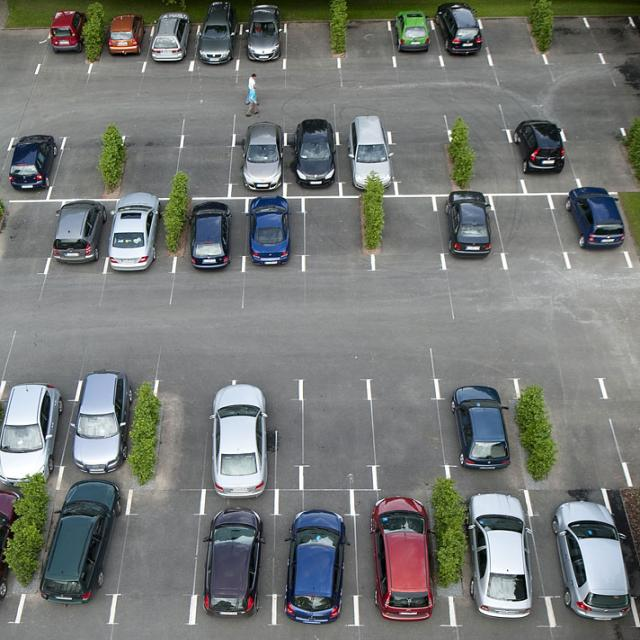space-empty: (117, 488, 195, 626), (536, 377, 616, 490), (305, 380, 370, 490), (375, 377, 437, 490), (301, 196, 370, 275), (375, 195, 440, 275), (492, 193, 556, 270), (454, 123, 518, 194), (570, 124, 637, 190), (390, 126, 452, 196), (115, 132, 177, 199), (57, 131, 114, 198), (0, 201, 52, 272), (178, 134, 229, 198), (339, 16, 393, 73), (539, 15, 596, 68), (483, 16, 540, 68), (285, 18, 338, 72), (0, 25, 47, 75)
space-occupied: (536, 490, 626, 626), (273, 488, 357, 623), (356, 491, 440, 623), (454, 492, 537, 624), (34, 491, 117, 611), (199, 490, 273, 620), (159, 380, 233, 487), (441, 382, 518, 484), (0, 370, 71, 480), (230, 381, 300, 484), (75, 376, 140, 482), (556, 192, 623, 268), (109, 199, 174, 277), (181, 198, 246, 276), (244, 198, 303, 275), (514, 120, 573, 192), (334, 120, 388, 198), (0, 482, 34, 602), (52, 200, 107, 274), (442, 193, 494, 270), (280, 124, 336, 195), (2, 134, 57, 200), (230, 127, 282, 196), (94, 16, 150, 72), (435, 8, 485, 68), (237, 16, 286, 76), (44, 16, 94, 72), (194, 16, 241, 75), (147, 16, 195, 73), (393, 12, 438, 69)
